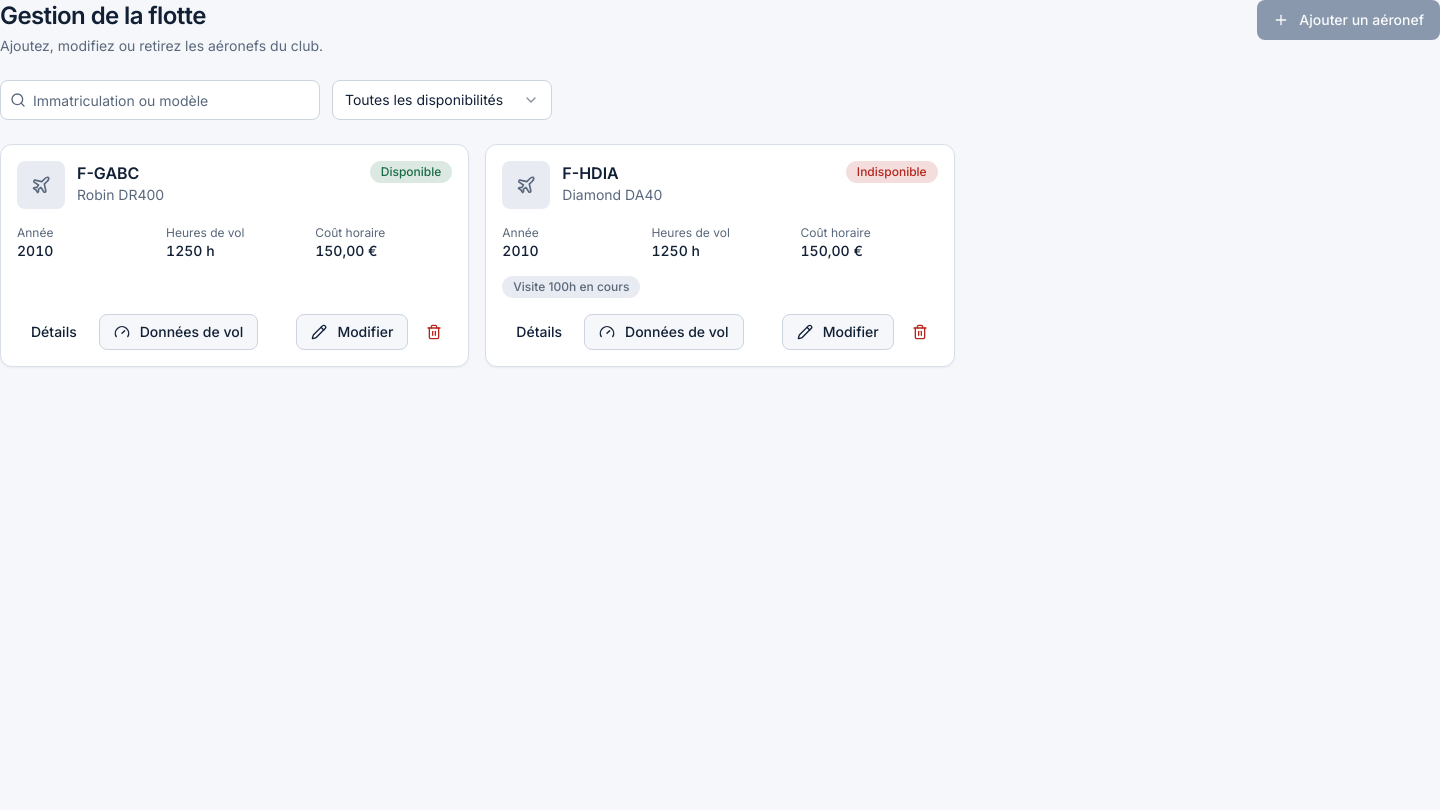
FleetManagementPage › propose de nouveau un avion une fois un aéronef retiré, la formule étant relue
Expected: the heading "F-HDIA" is shown, x1=562 y1=163 x2=619 y2=183
Click the button named "Supprimer F-HDIA" at coordinates (920, 332), box x1=902 y1=314 x2=938 y2=350
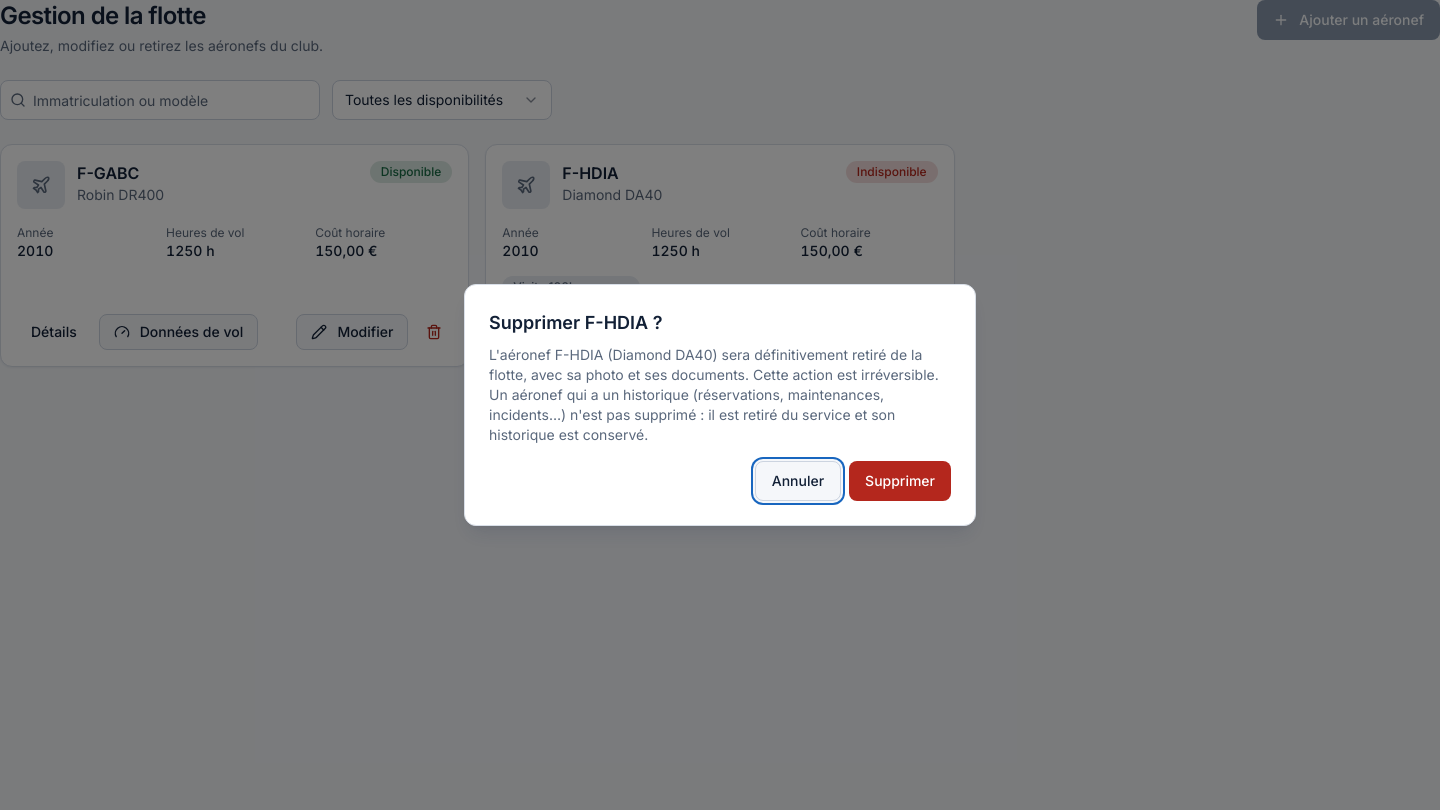
Click the button "Supprimer" at coordinates (900, 481), box x1=849 y1=461 x2=951 y2=501
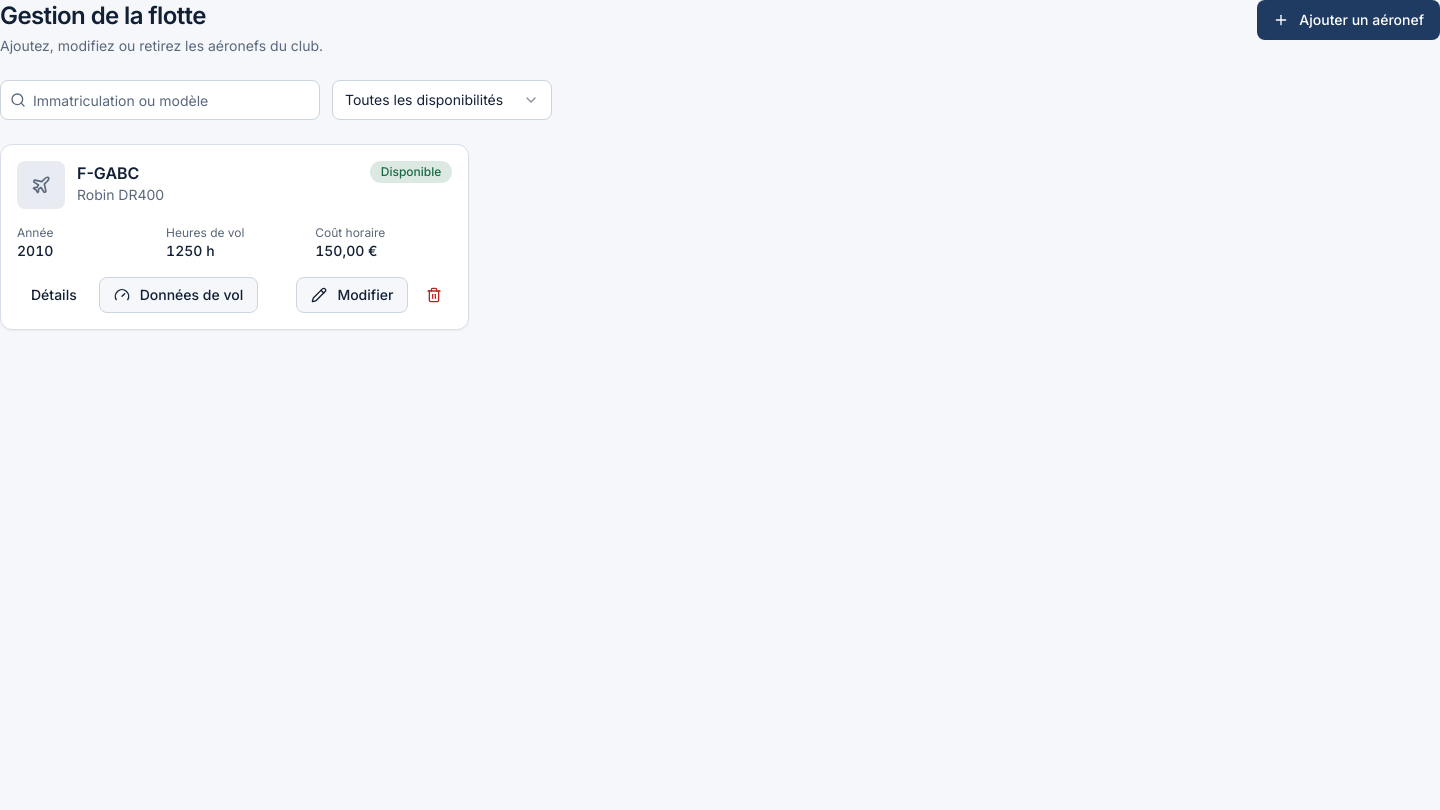
Expected: the heading "F-HDIA" is gone
Expected: the dialog is gone
Click the button "Ajouter un aéronef" at coordinates (1349, 20), box x1=1257 y1=0 x2=1439 y2=40
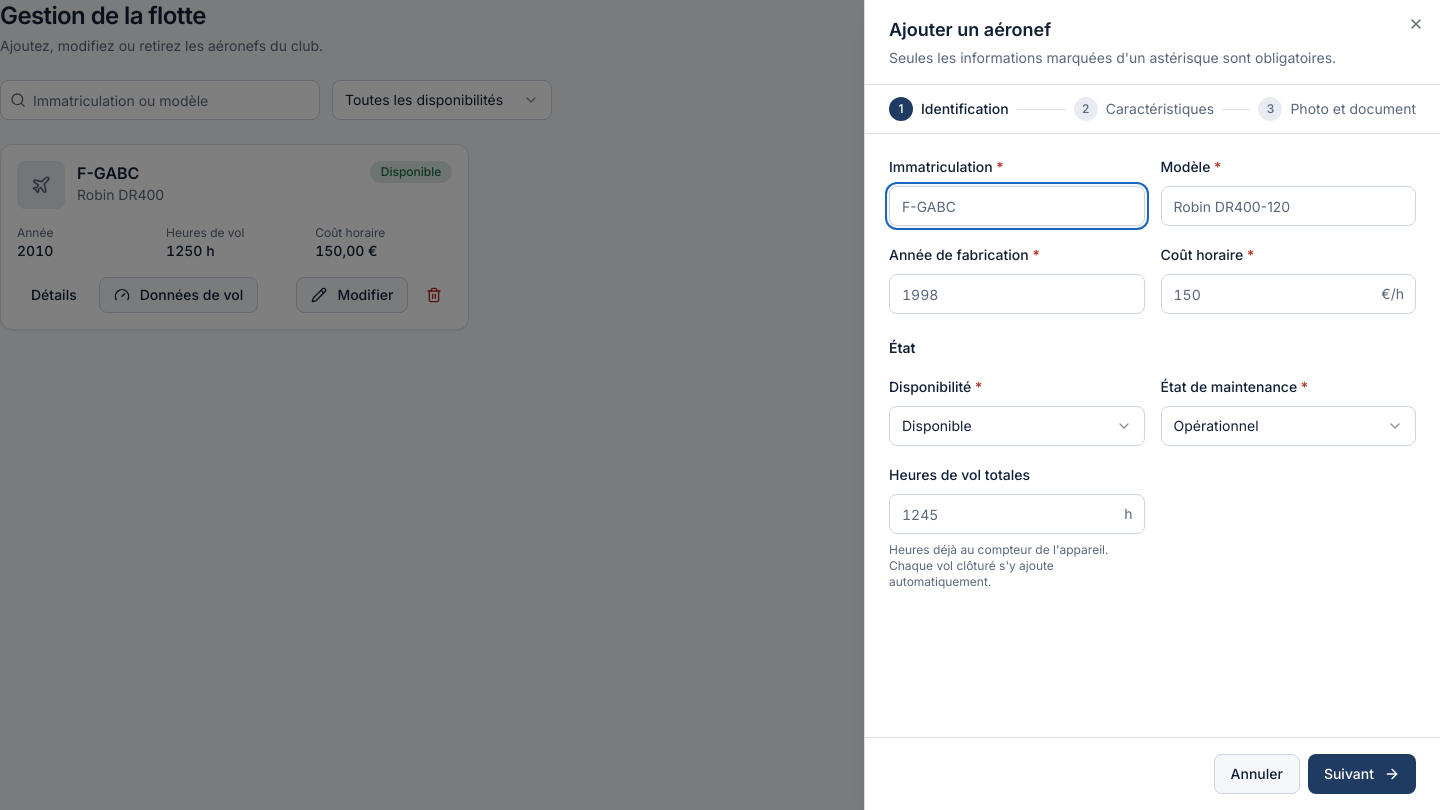
Expected: the dialog "Ajouter un aéronef" is shown, x1=864 y1=0 x2=1439 y2=809
